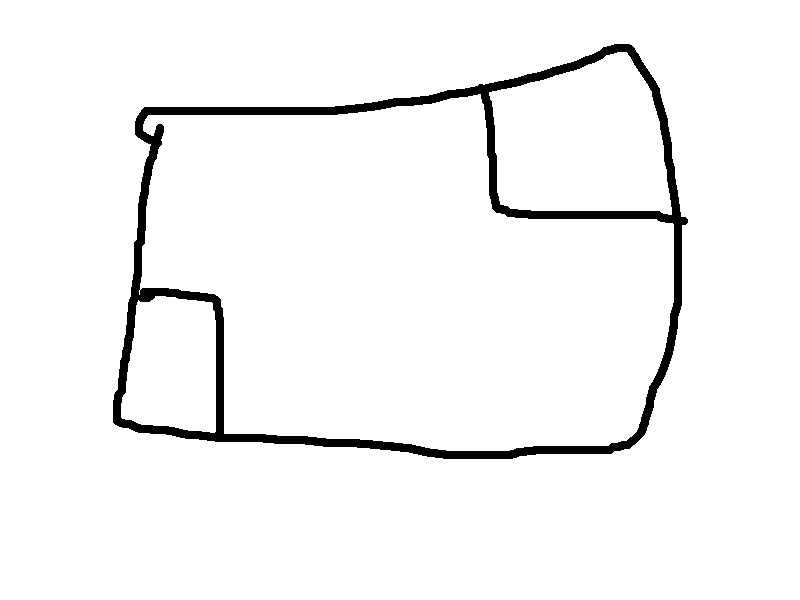dog: (110, 40, 691, 464), (479, 37, 690, 229), (106, 279, 233, 442)
